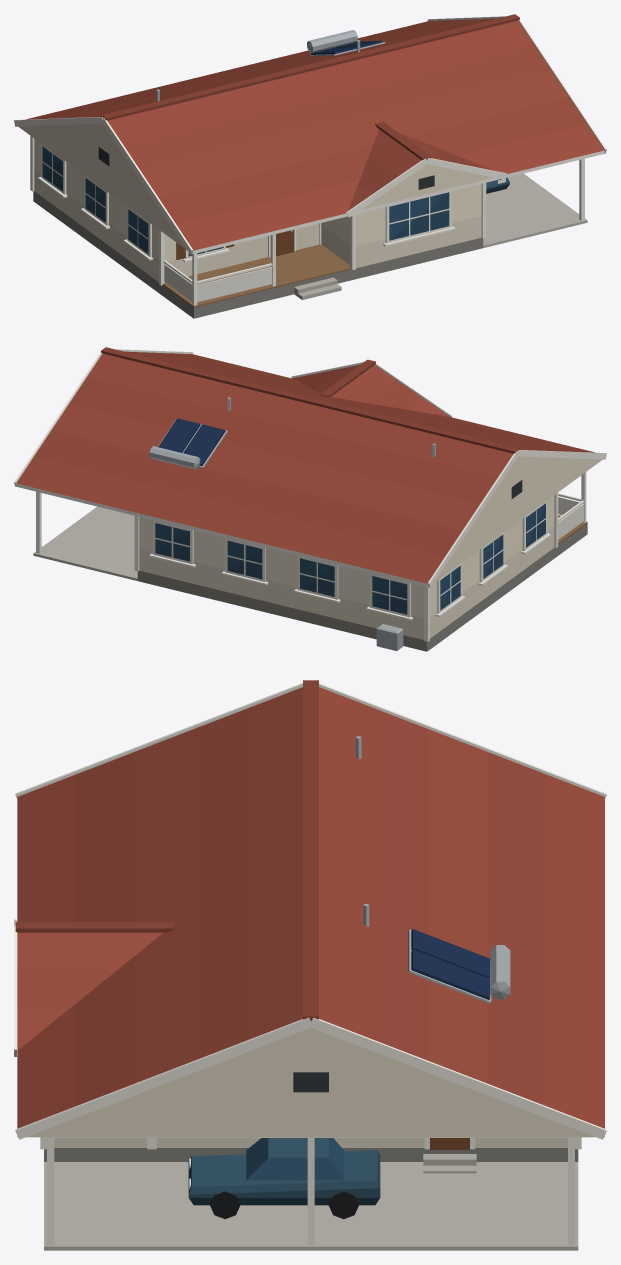
Rendered from house_17x12.glb.
3 views of the same model, one above another, from view 1: azimuth 30°, elevation 25°; view 2: azimuth 150°, elevation 25°; view 3: azimuth 270°, elevation 25° (orthographic). The views are drawn at different scales.
Visible parts, largest first — view 1: house; view 2: house; view 3: house.
Part boxes in pixels (x1,y1,x2,y2): house: (14, 14, 606, 318); house: (14, 347, 606, 651); house: (14, 680, 606, 1250).
Size of the model in its own units: 17.93 by 6.01 by 13.32.
